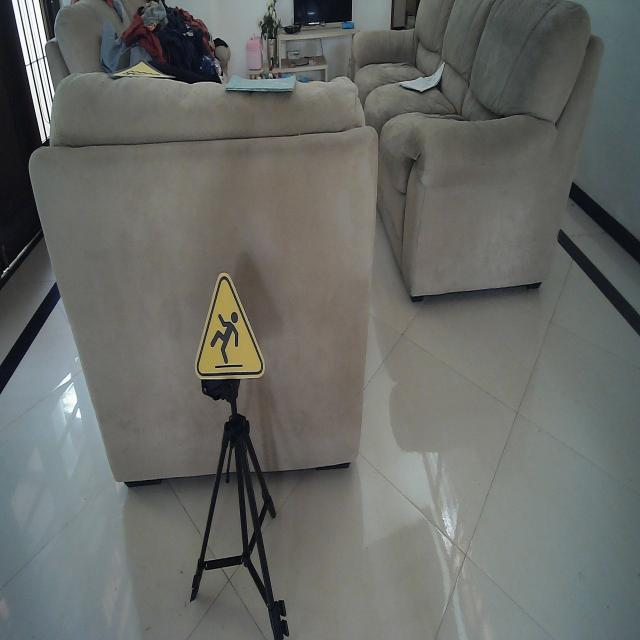slippery_sign: (192, 270, 266, 383)
